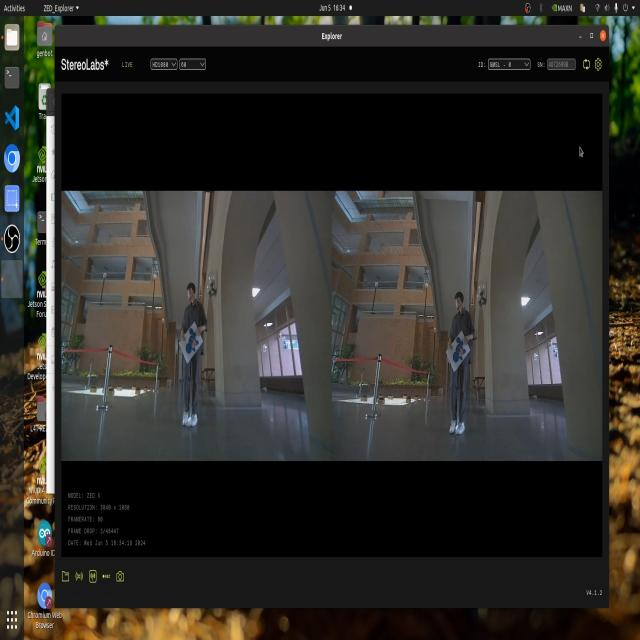blue: (178, 325, 202, 359), (451, 331, 469, 370)
